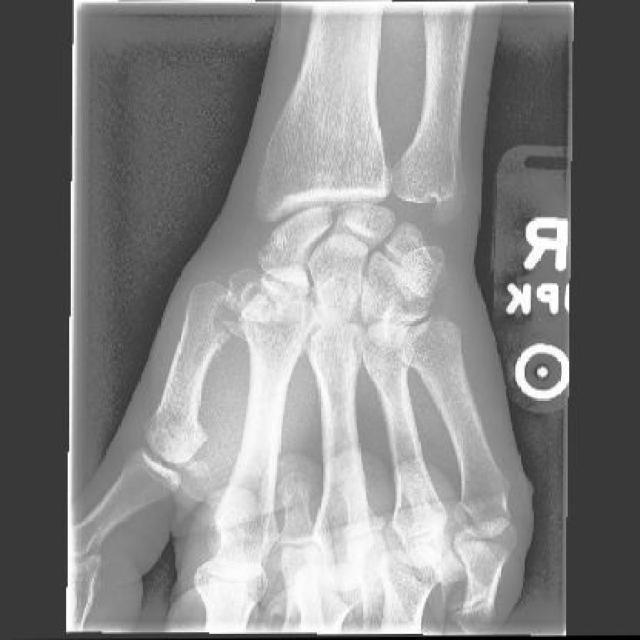Fracture: (188, 266, 262, 351)
